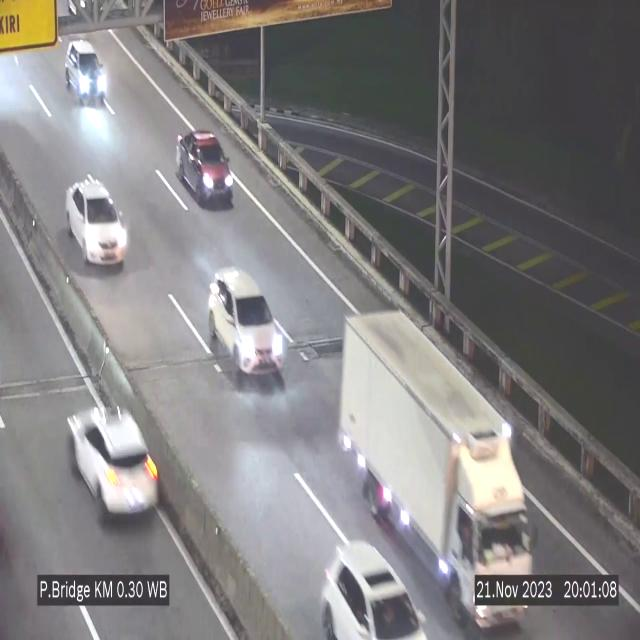Car: (66, 388, 168, 534), (310, 522, 431, 640), (208, 269, 285, 378), (65, 178, 128, 268), (176, 130, 234, 207), (66, 39, 108, 105)
Truck: (340, 308, 532, 633)
